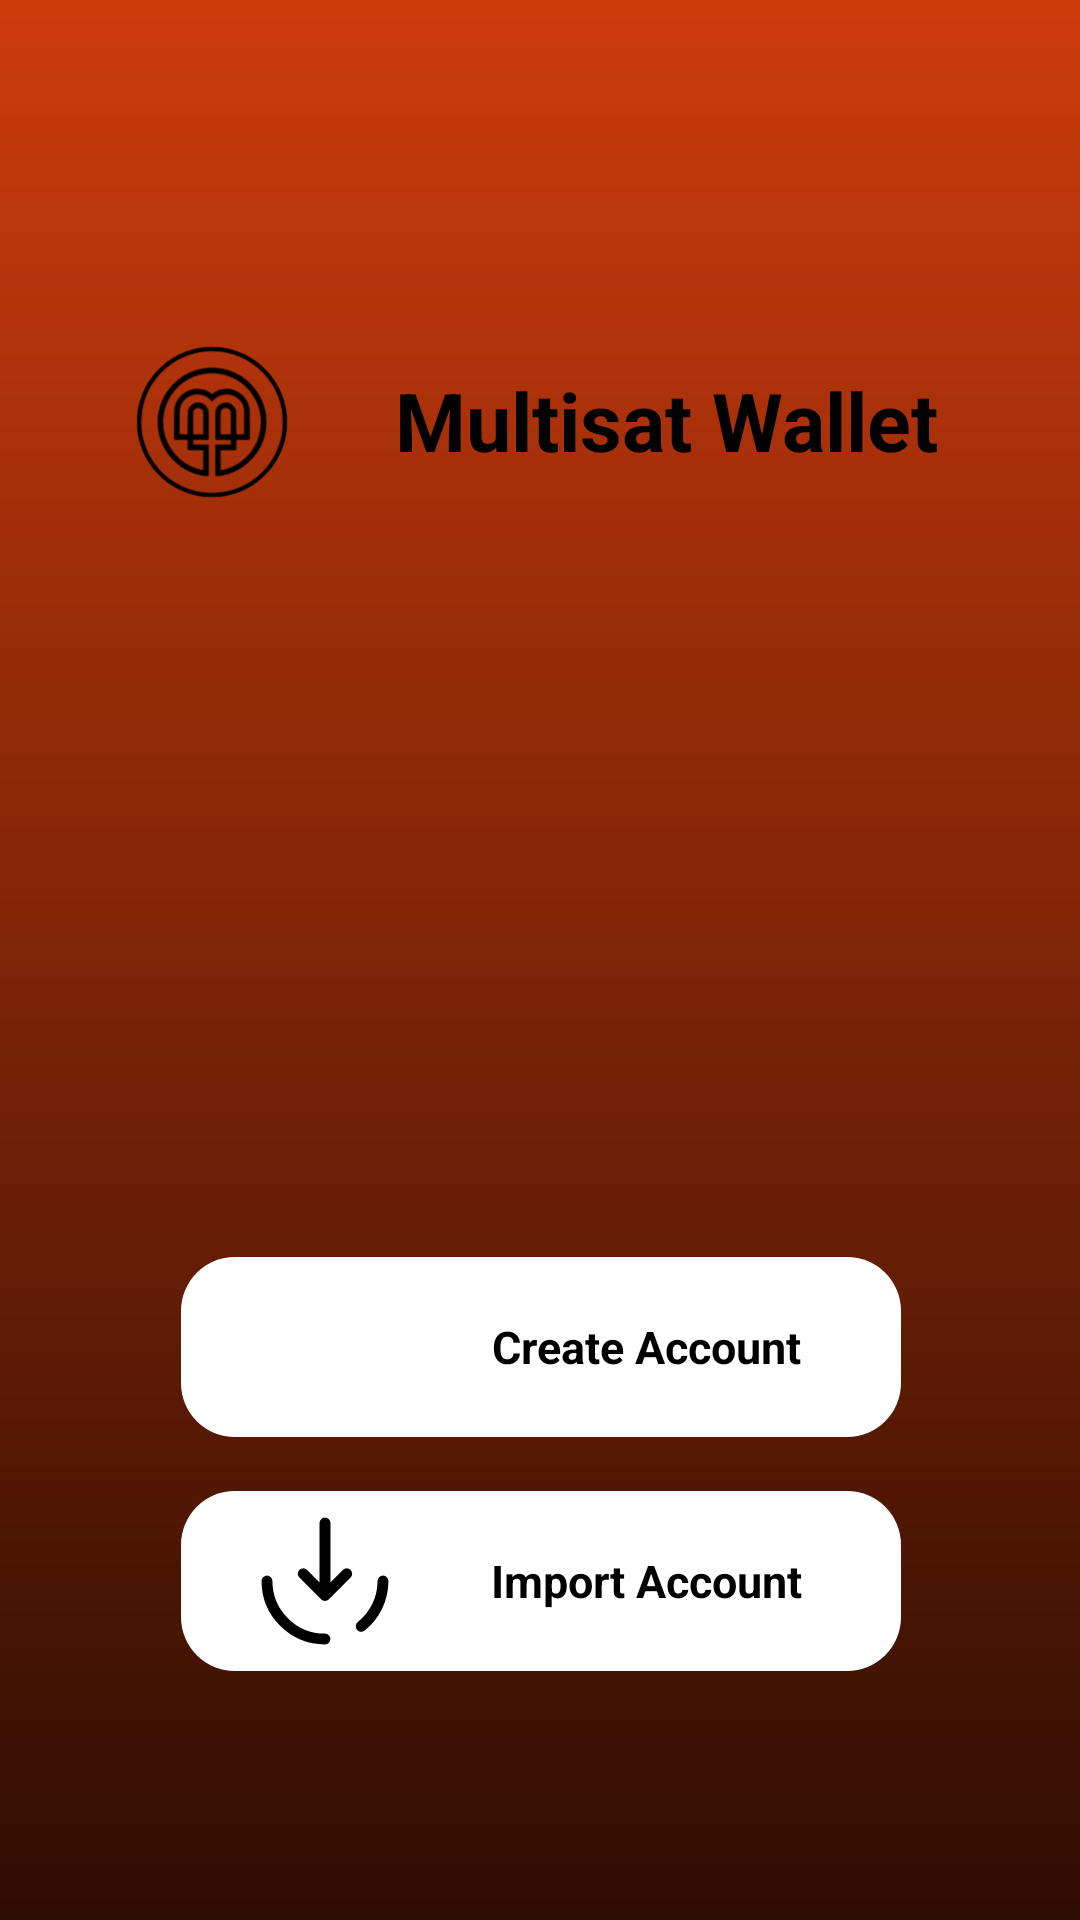

Icons on this 1080*1920 Android screen, each with the point to tap as (x,y):
import circle: (325,1581)
